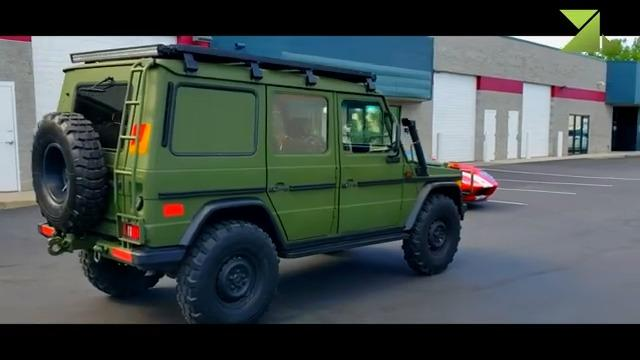MIL_HMMWV: (30, 43, 464, 324)
